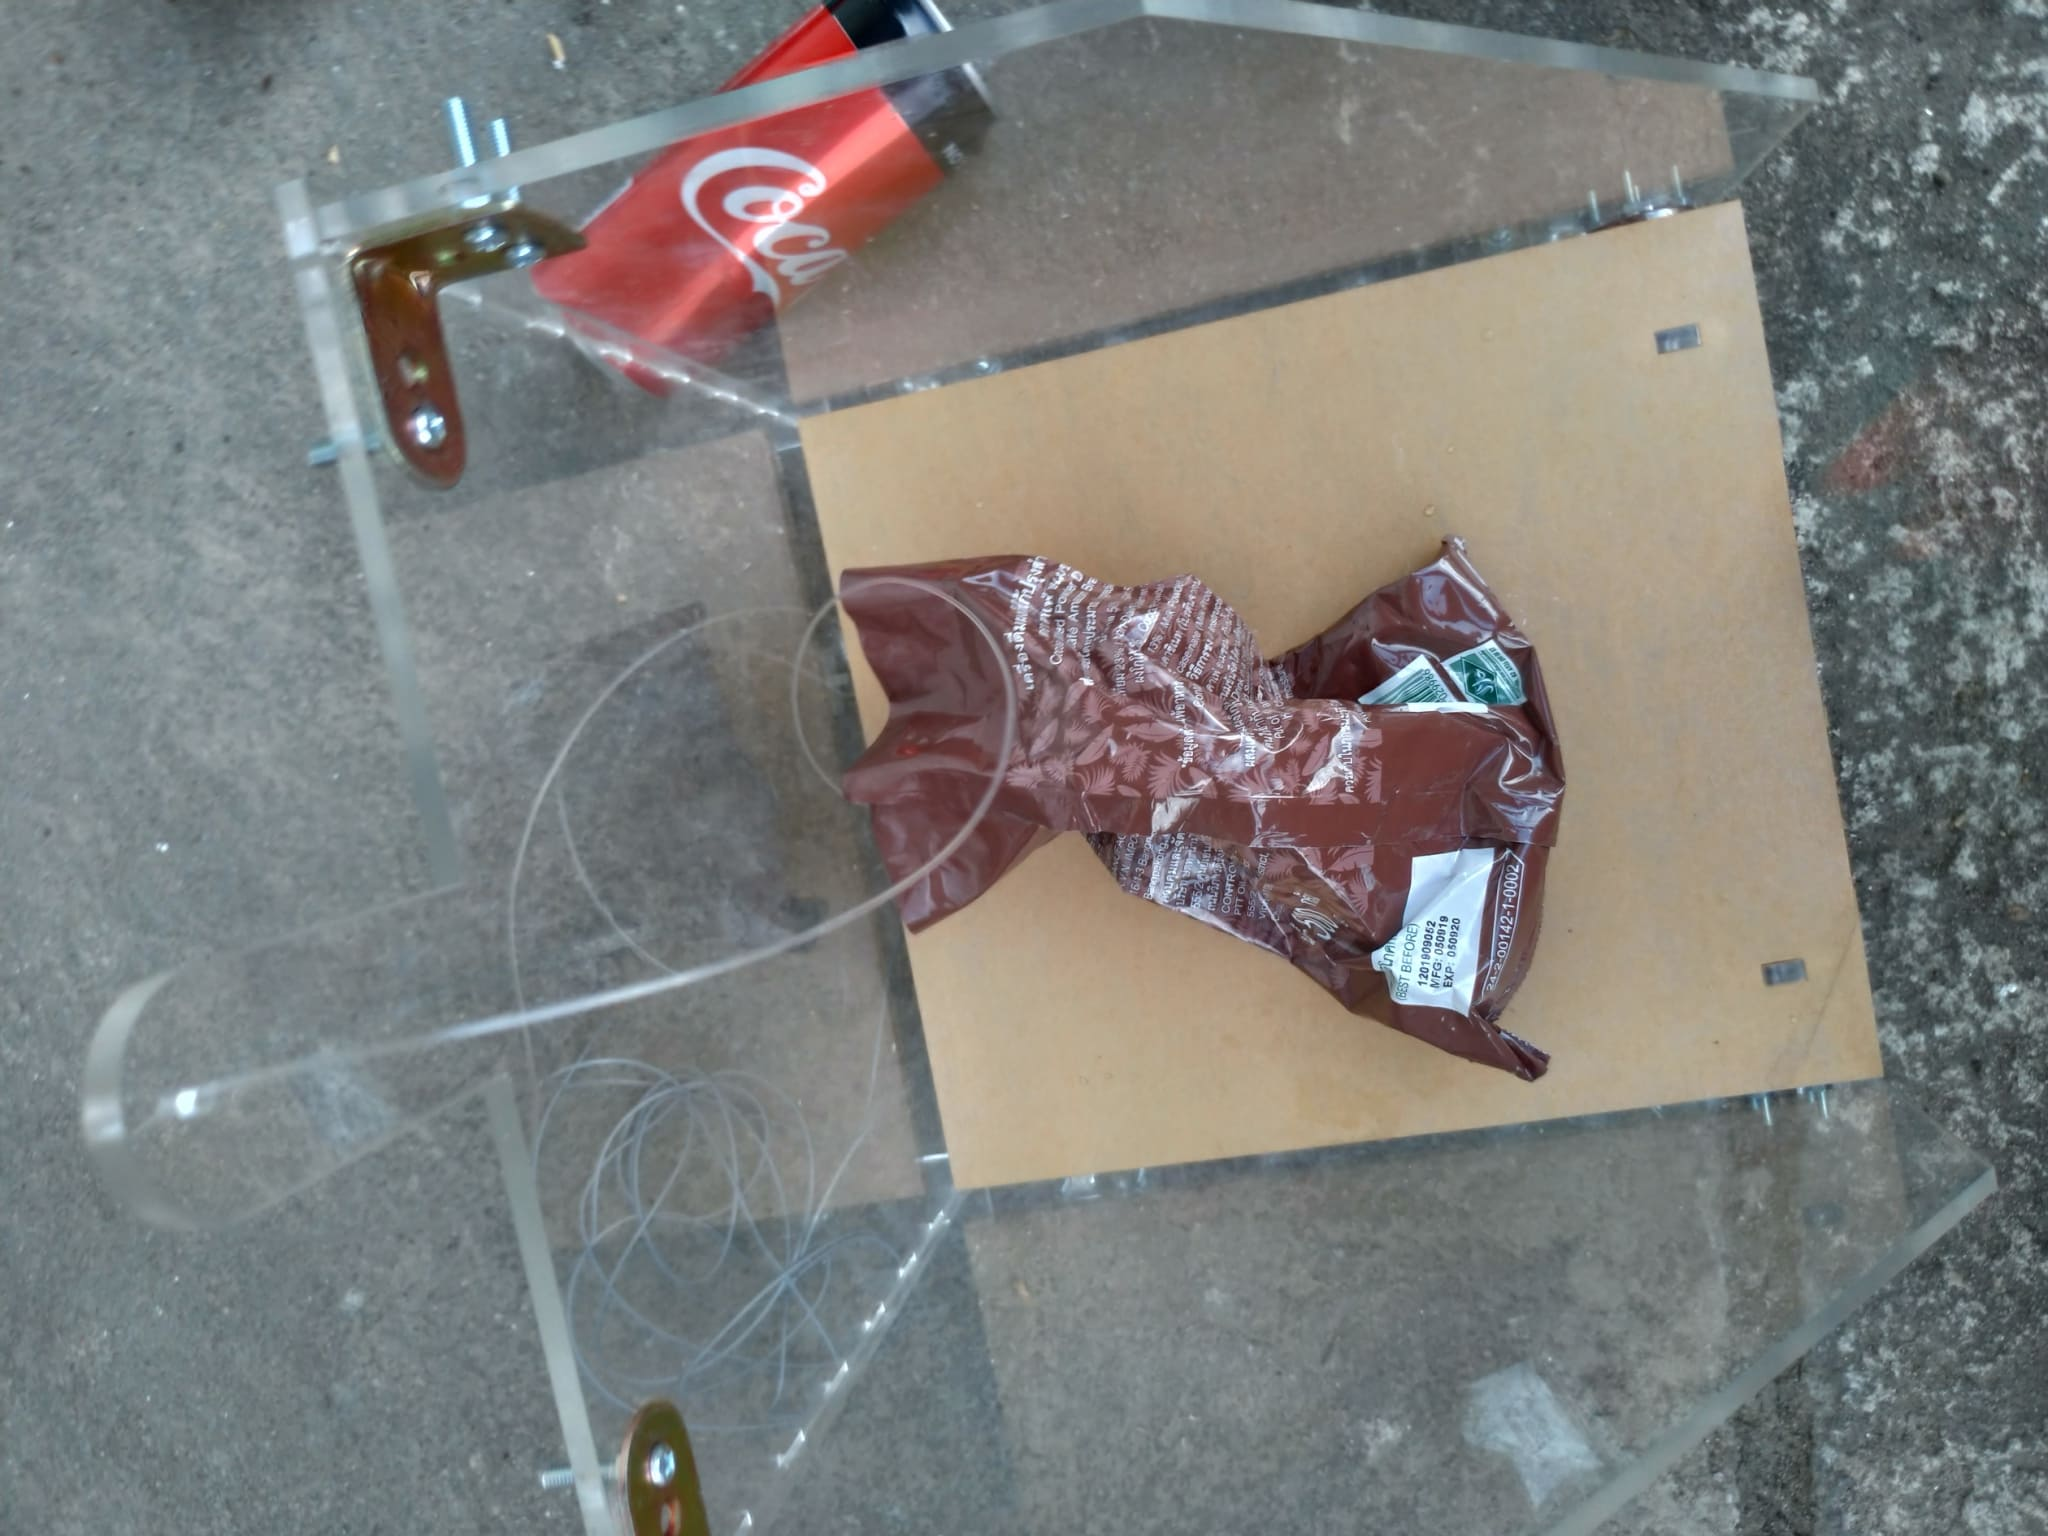AlCan: (526, 6, 1001, 407)
Others: (834, 537, 1550, 1079)
